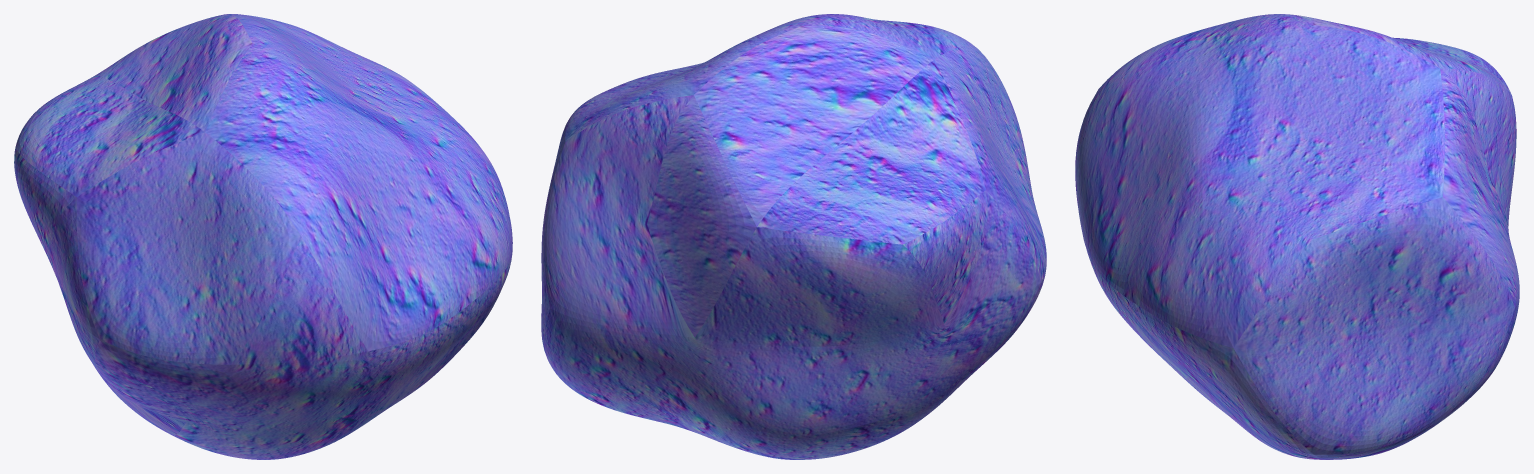
File: smallasteroid2_LOD0.fbx
3 views of the same model, side by side, from view 1: azimuth 30°, elevation 25°; view 2: azimuth 150°, elevation 25°; view 3: azimuth 270°, elevation 25° (orthographic). The views are drawn at different scales.
Visible parts, largest first — view 1: Icosphere; view 2: Icosphere; view 3: Icosphere.
Part boxes in pixels (box(x1,y1,x2,y2)): Icosphere: box(14, 14, 512, 459); Icosphere: box(541, 14, 1046, 459); Icosphere: box(1075, 14, 1519, 459).
Bounding box in the file's own units: 240 × 219 × 229.
